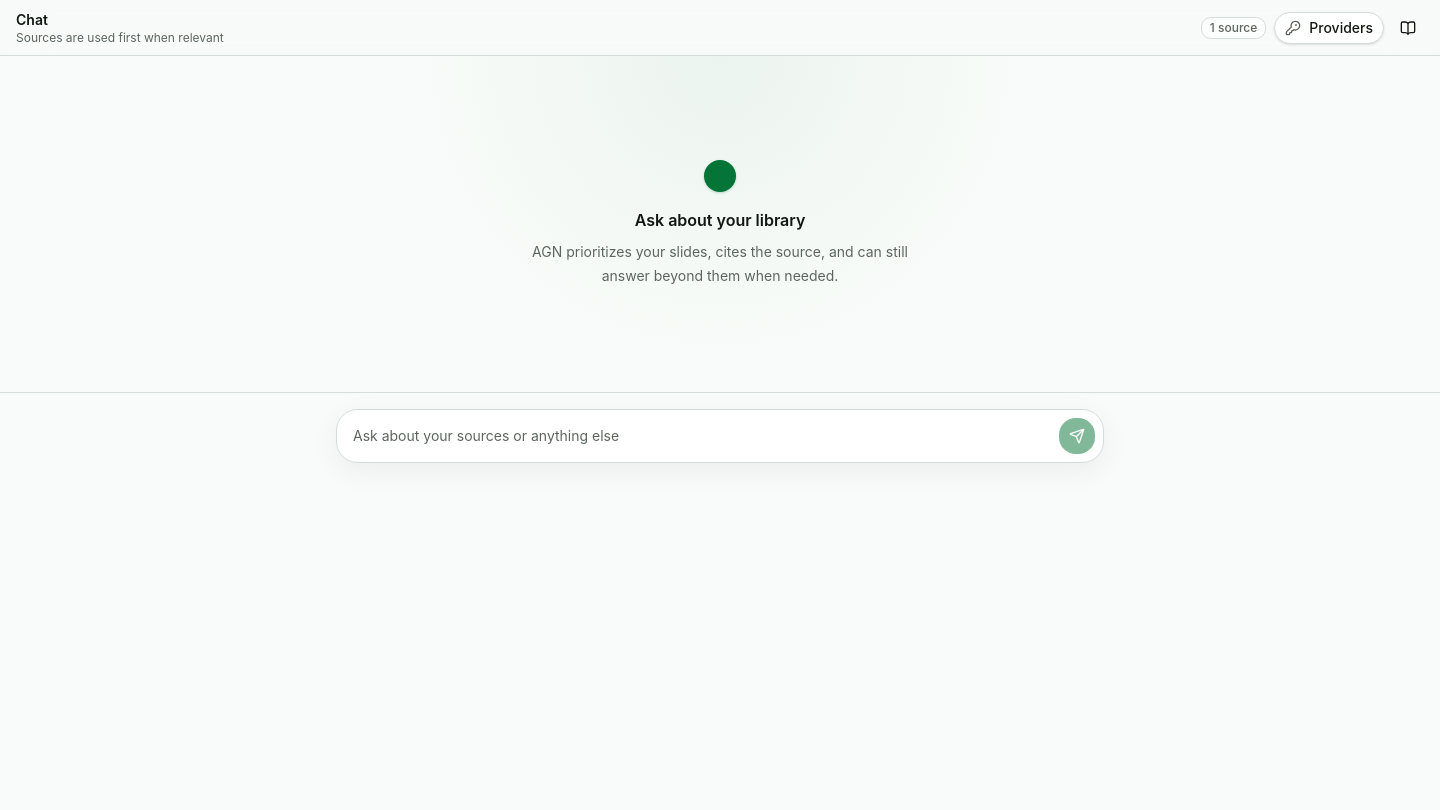
Scenario: chat interactions › keeps a usable local curriculum when AI organization fails
Click the button named "Study chapters" at (1408,28), box x1=1392 y1=12 x2=1424 y2=44
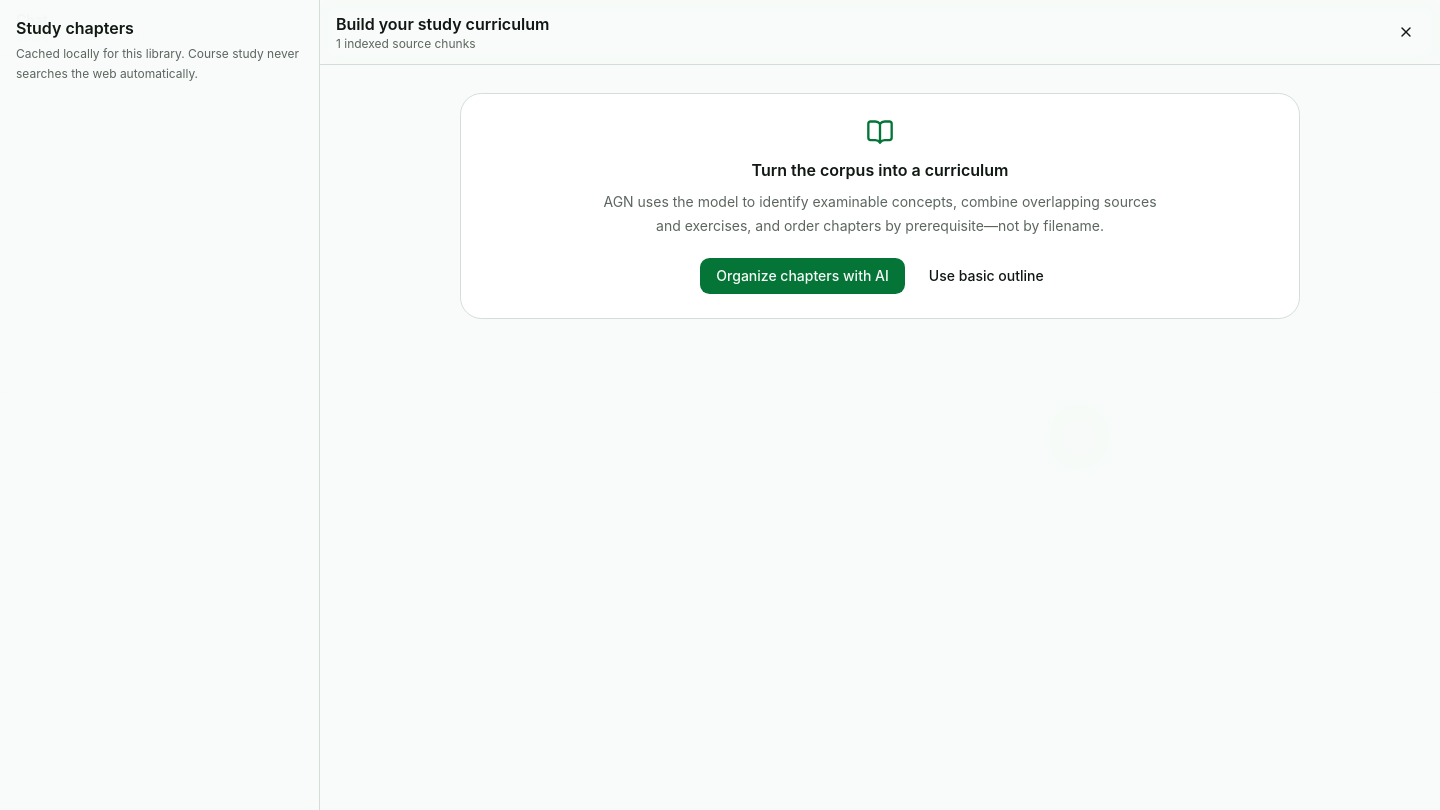
Click the button "Organize chapters with AI" at (803,276), box x1=700 y1=258 x2=905 y2=294
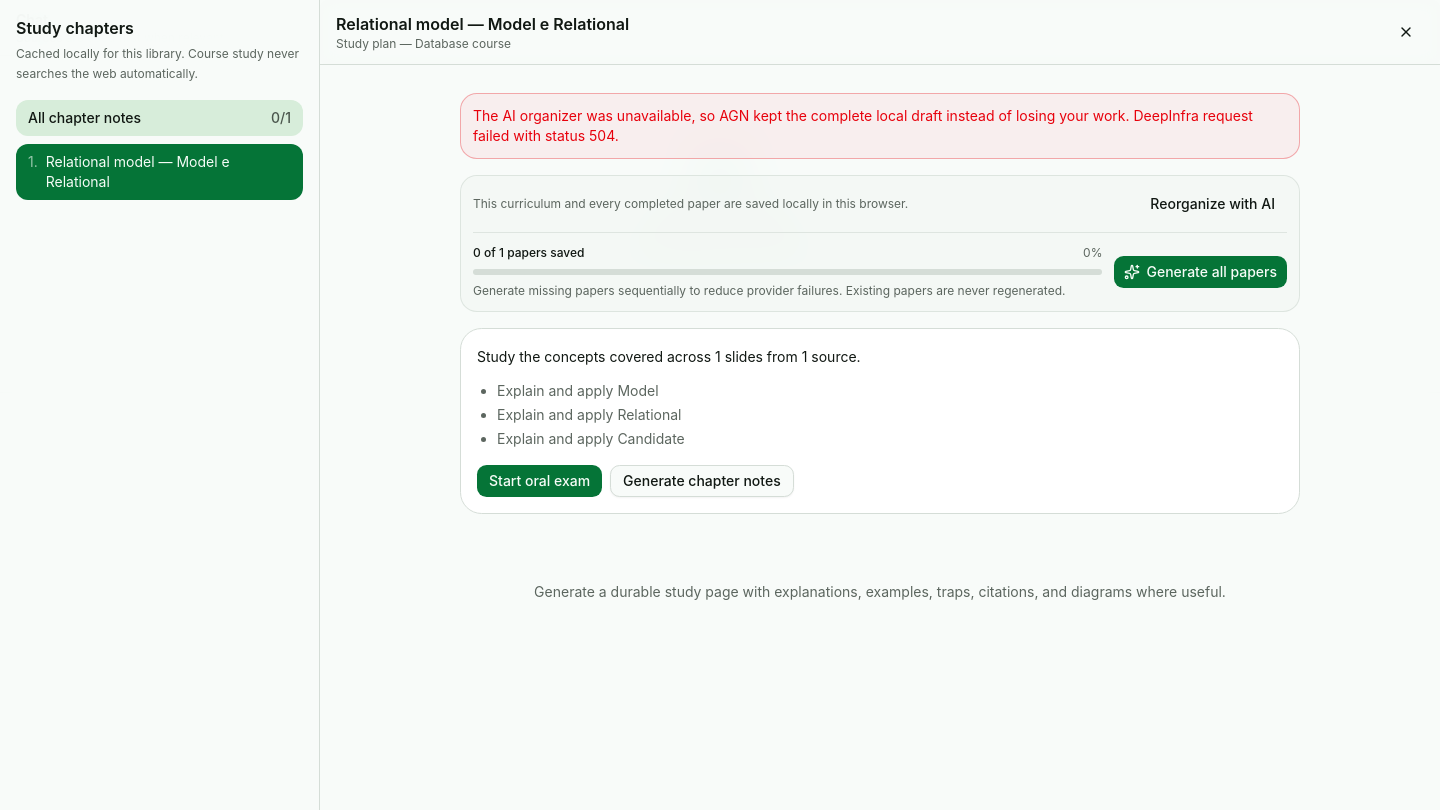
Expected: the text "kept the complete local draft" is shown, x1=473 y1=107 x2=1253 y2=144
Expected: the text "Relational model — Model e Relational" is shown, x1=46 y1=153 x2=230 y2=190
